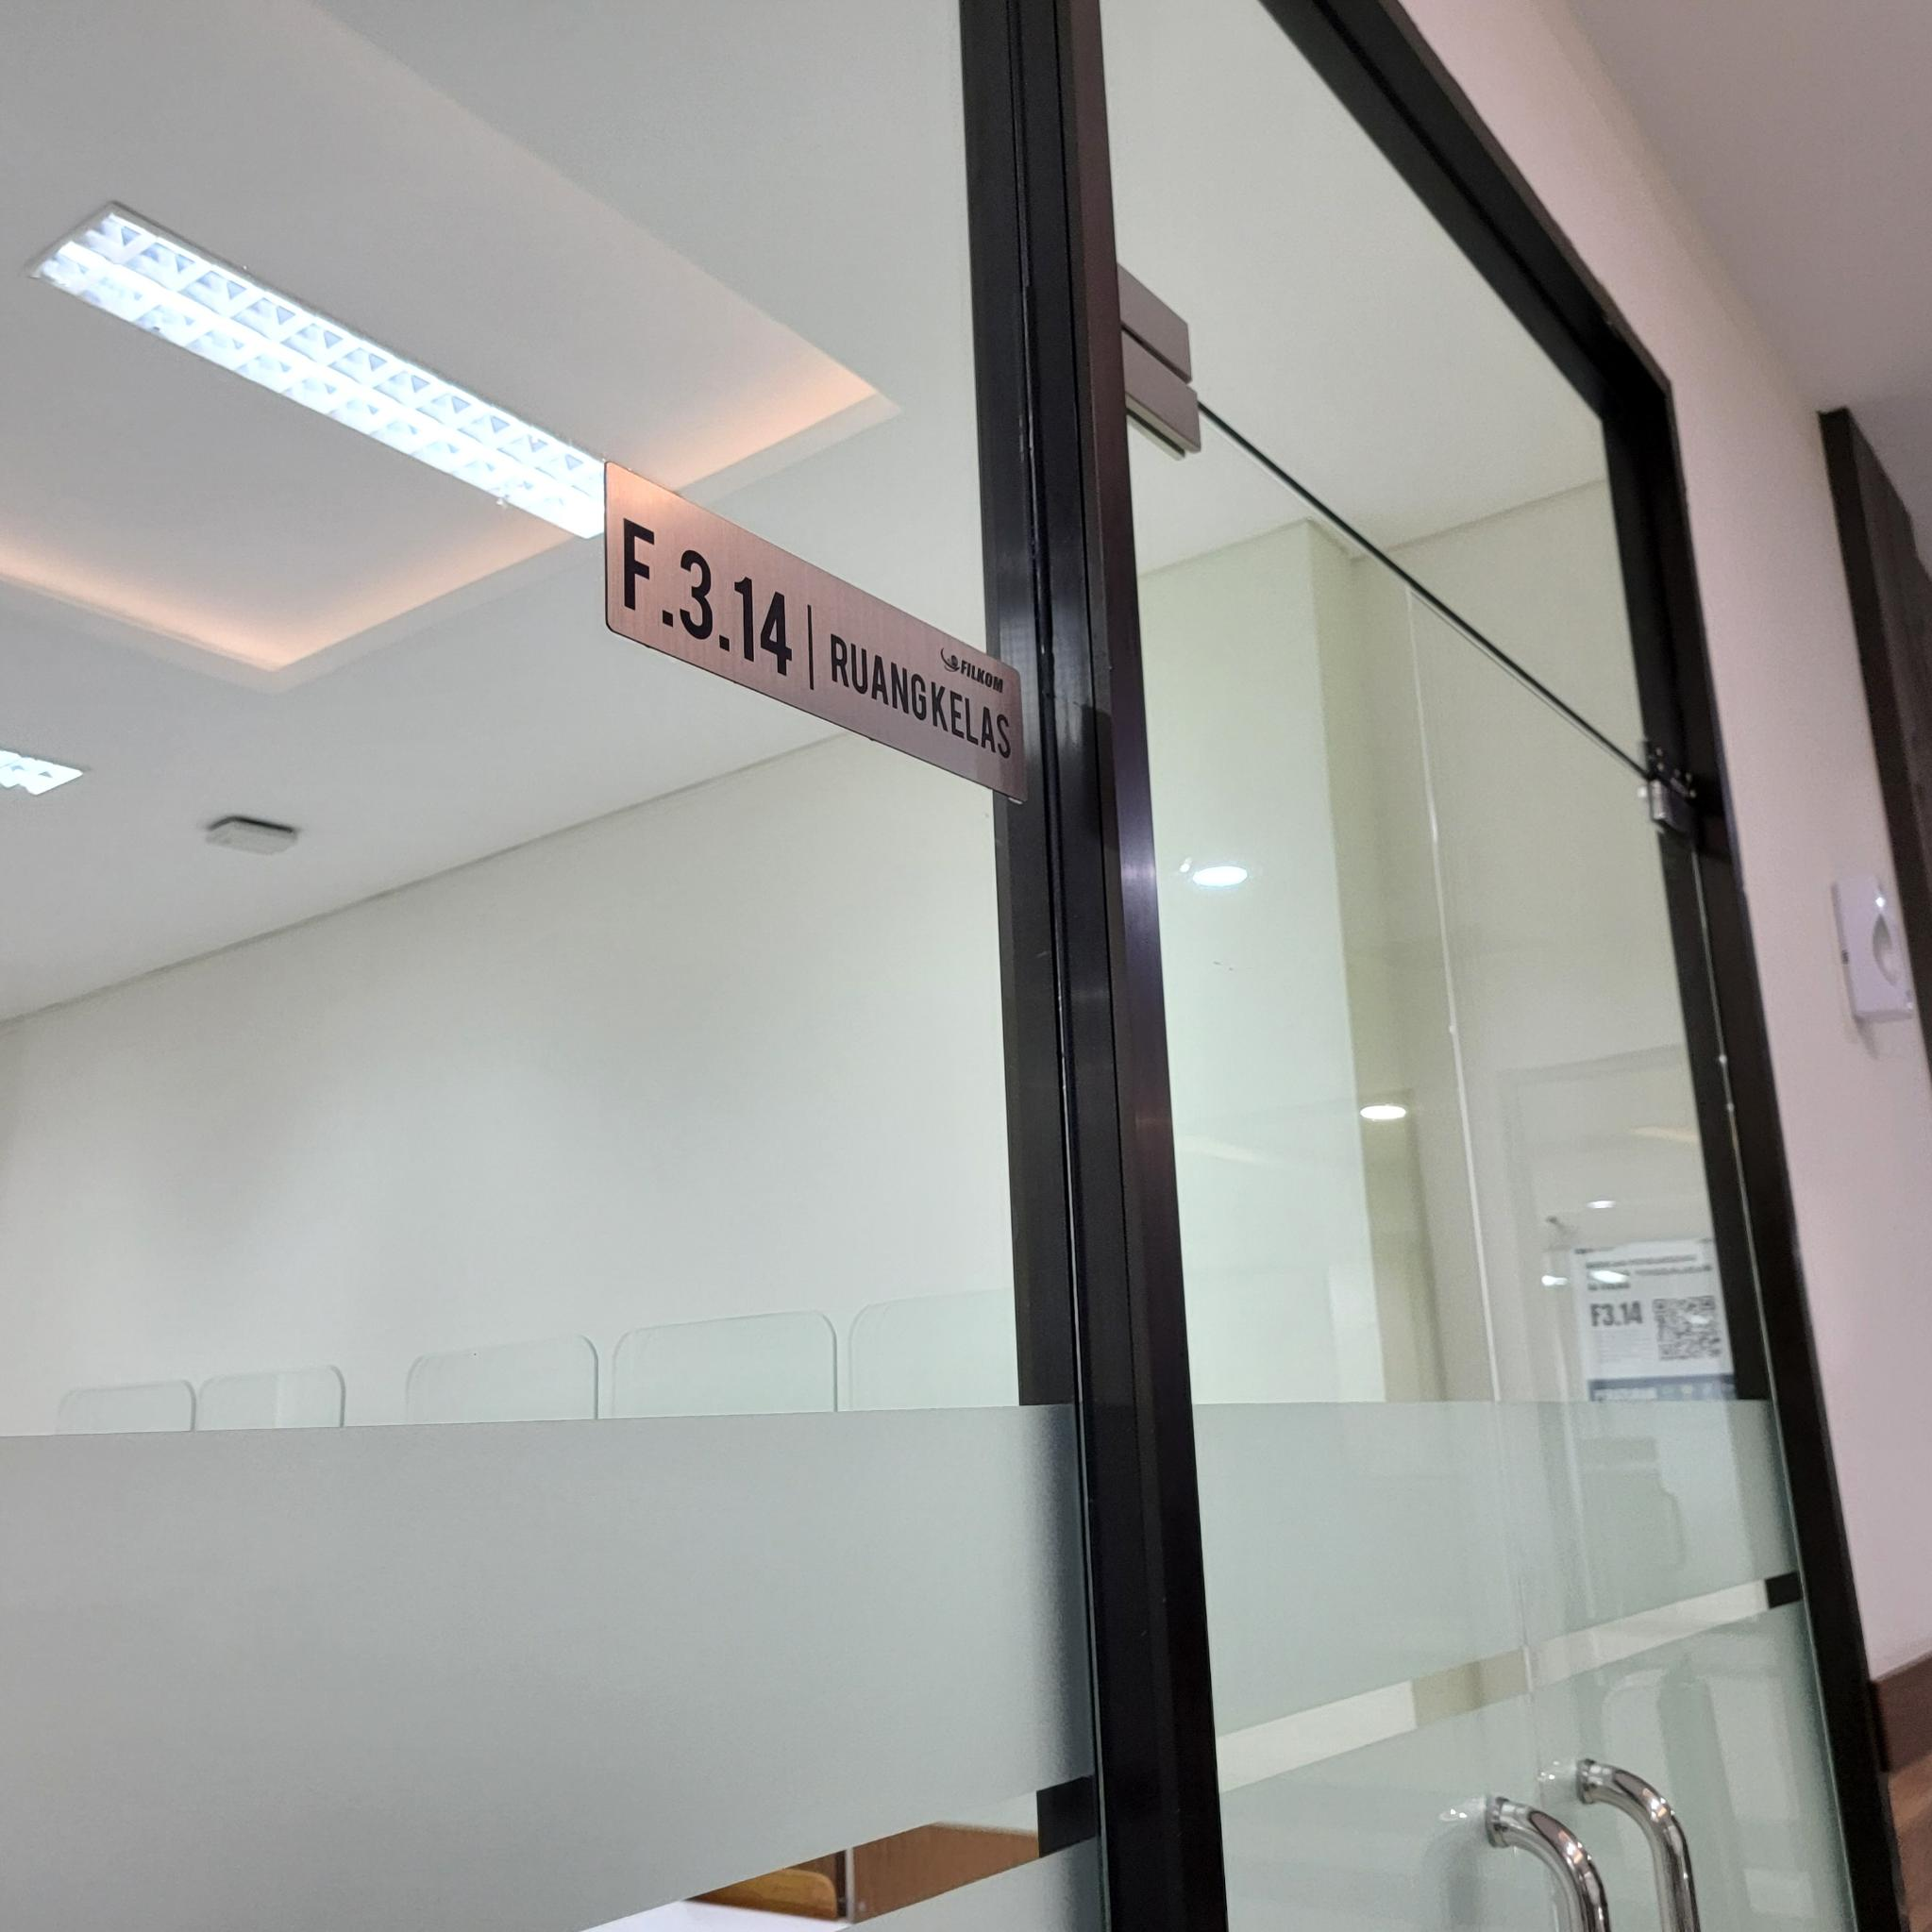plate: (605, 456, 1028, 807)
